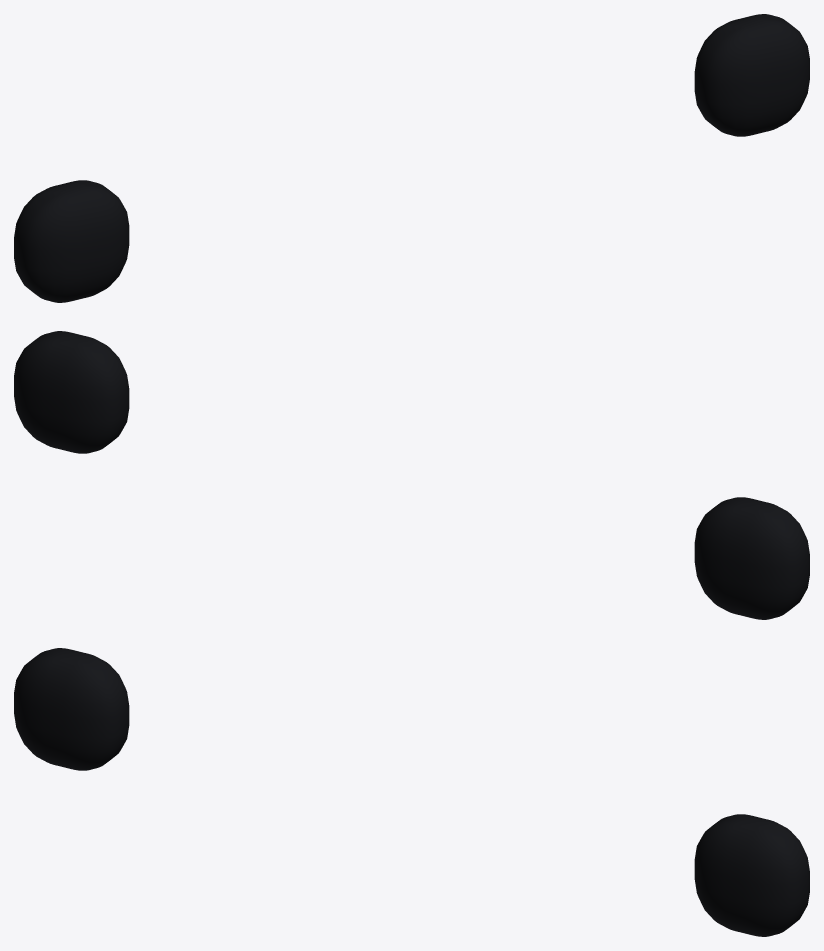
File: eye-round.glb
The picture shows the model from 3 angles, top to bottom: view 1: azimuth 30°, elevation 25°; view 2: azimuth 150°, elevation 25°; view 3: azimuth 330°, elevation 25°; orthographic projection.
Parts seen in each view (by area): view 1: eye_normal; view 2: eye_normal; view 3: eye_normal.
Boxes of the visible parts, x1,y1,x2,y2 form: eye_normal: (14,14,809,302); eye_normal: (14,331,809,619); eye_normal: (14,648,809,936).
Size of the model in its own units: 27.22 by 3.59 by 2.21.
Materials: 1 (1 with a texture image).
